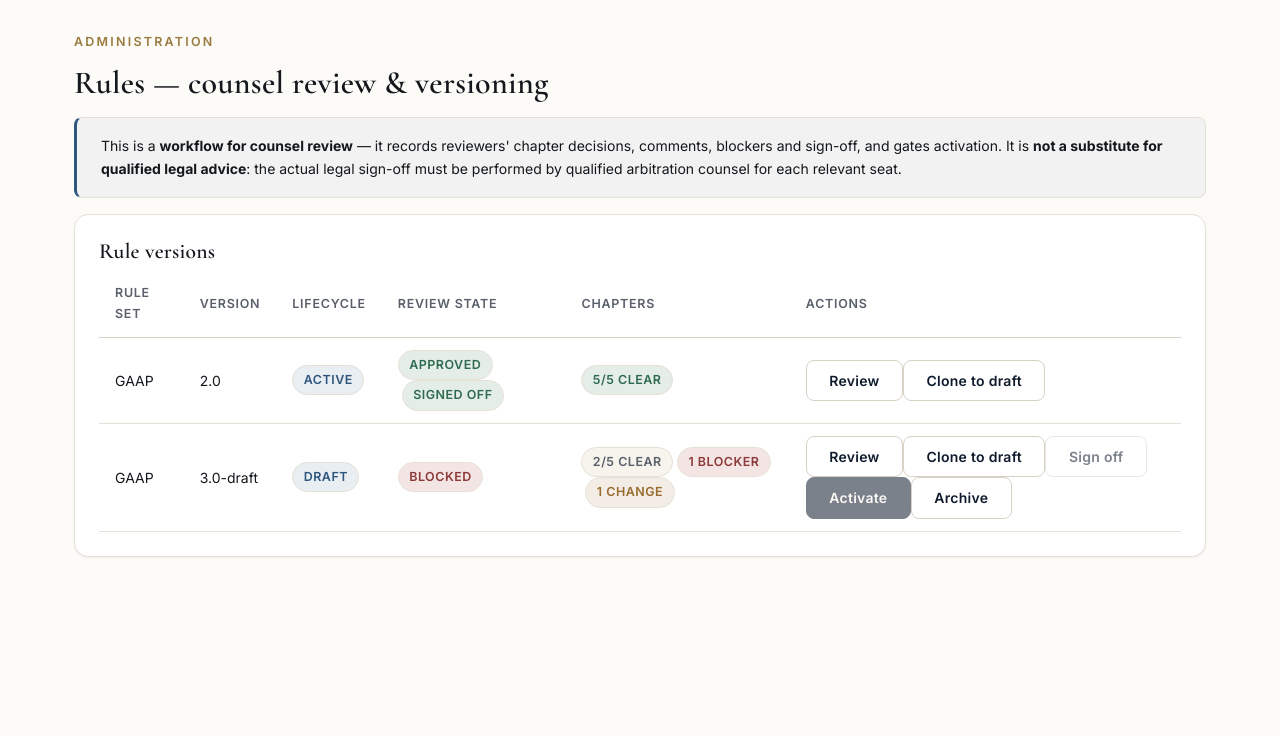
Test: AdminRulesReview — review status display › shows per-chapter review status in the detail view
Click the button "Review" in the row of "3.0-draft" at (854, 456), box x1=806 y1=436 x2=903 y2=477
(page scrolled)
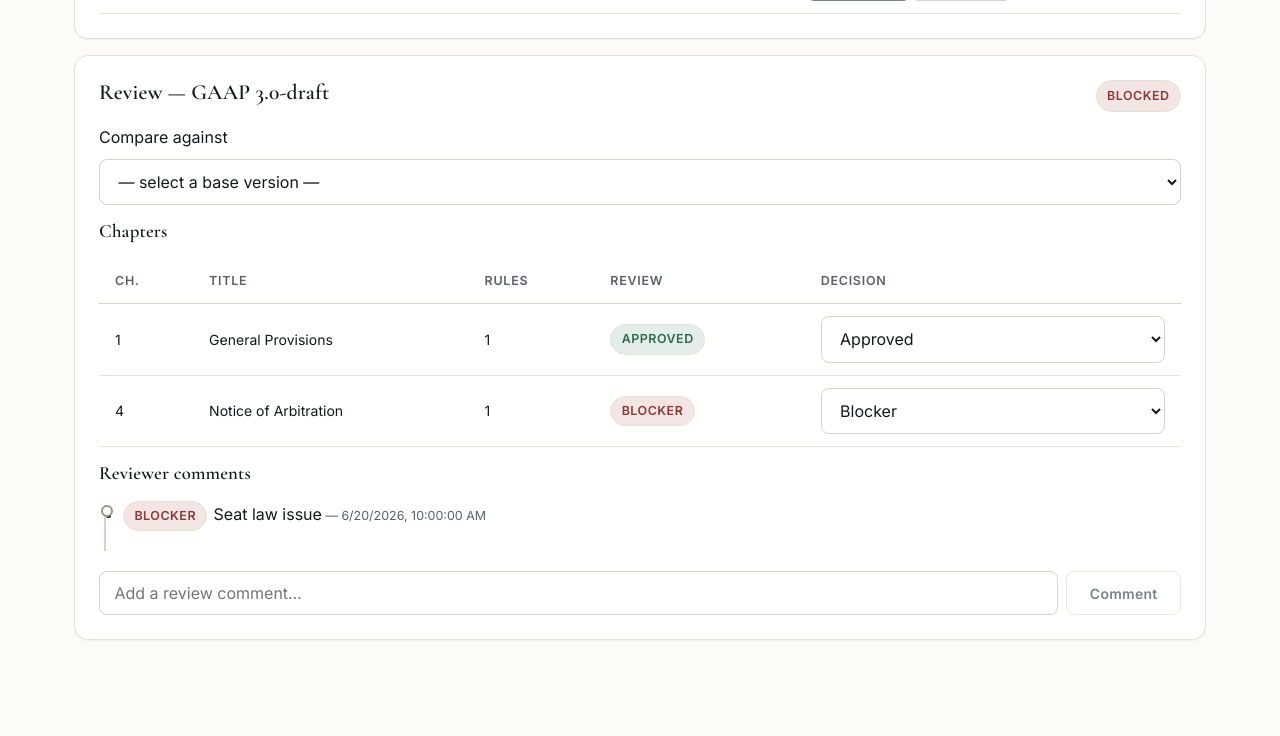
Check: the text "General Provisions" is shown, box x1=193 y1=304 x2=468 y2=375
Check: the text "Notice of Arbitration" is shown, box x1=193 y1=375 x2=468 y2=446
Check: the list item "Seat law issue" is shown, box x1=213 y1=504 x2=322 y2=524
